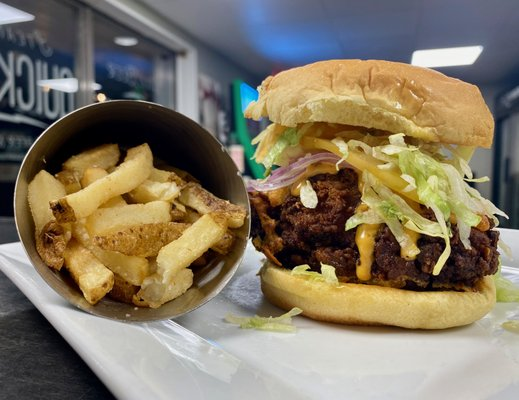soup: (241, 59, 509, 331)
sushi: (12, 99, 253, 312)
